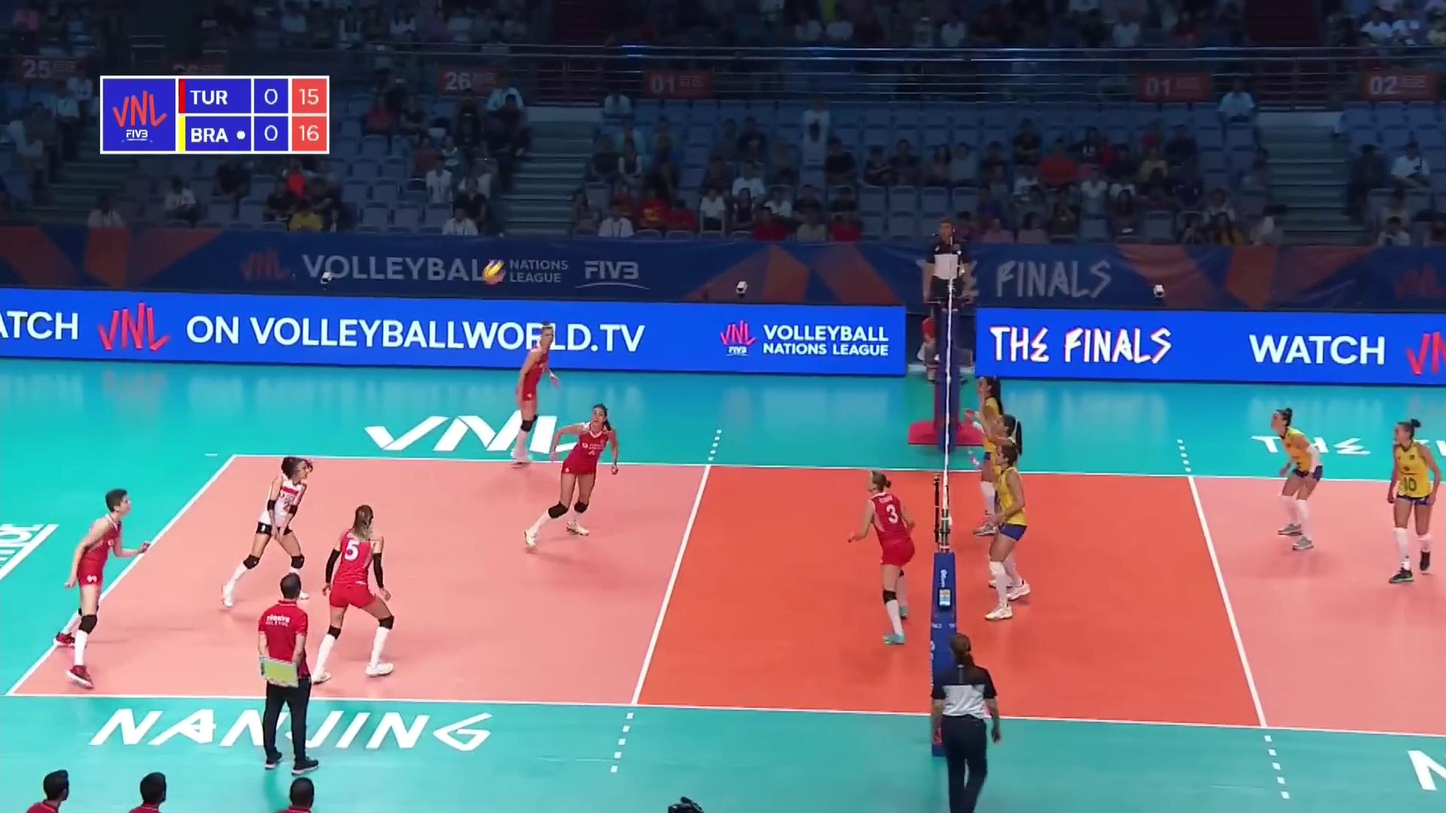player: (221, 460, 326, 617), (61, 488, 135, 691), (317, 504, 399, 680), (522, 406, 618, 553), (856, 470, 917, 646), (1384, 416, 1442, 584), (983, 441, 1031, 618), (1267, 409, 1326, 549), (969, 375, 1015, 536), (509, 324, 552, 470), (984, 417, 1027, 563)
refree: (928, 638, 998, 813), (927, 220, 967, 358)
